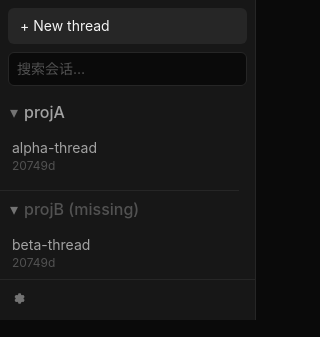
Test: ThreadSidebar › still opens the same menu on long-press in mobile
Press the mouse on the element showing "alpha-thread 20749d" at (54, 156), box [12,139,97,173]
Wait 510 ms
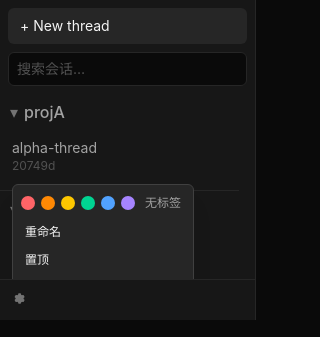
Expected: the menu is shown, [12,184,194,279]
Expected: the menu item named "红" is shown, [21,196,35,210]
